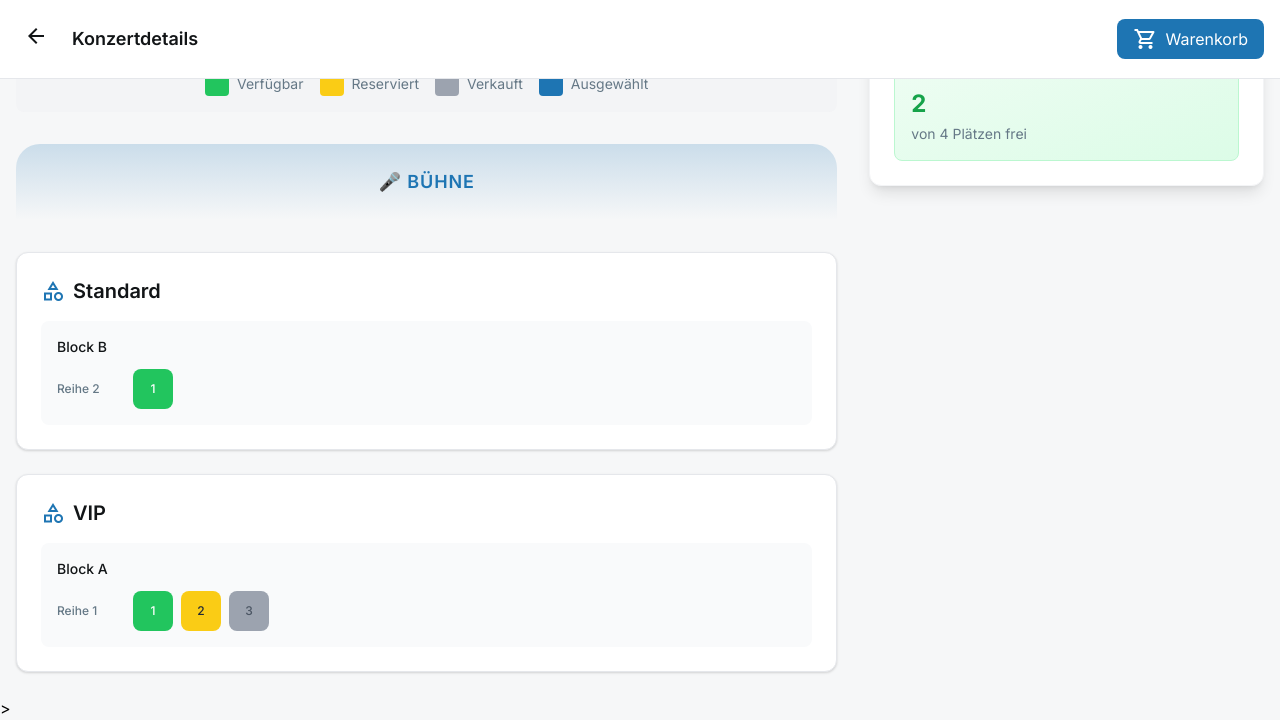
ConcertDetailPage Component › Seat Selection Dialog › shows success notification after successful reservation
(page scrolled)
Click the 2nd button titled "Reihe 1, Platz 1 - Verfügbar": [153, 611] box [133, 591, 173, 631]
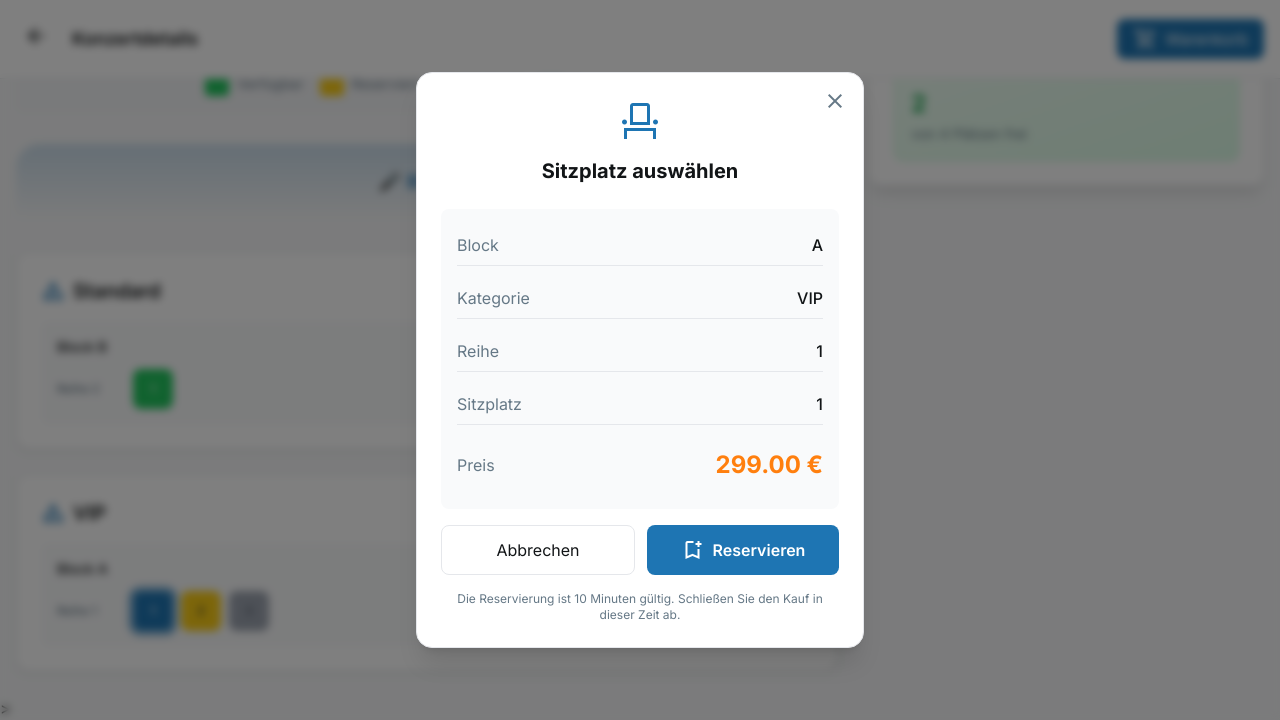
Expected: the button "Reservieren" is shown
Click the button "Reservieren": [743, 550] box [647, 525, 839, 575]
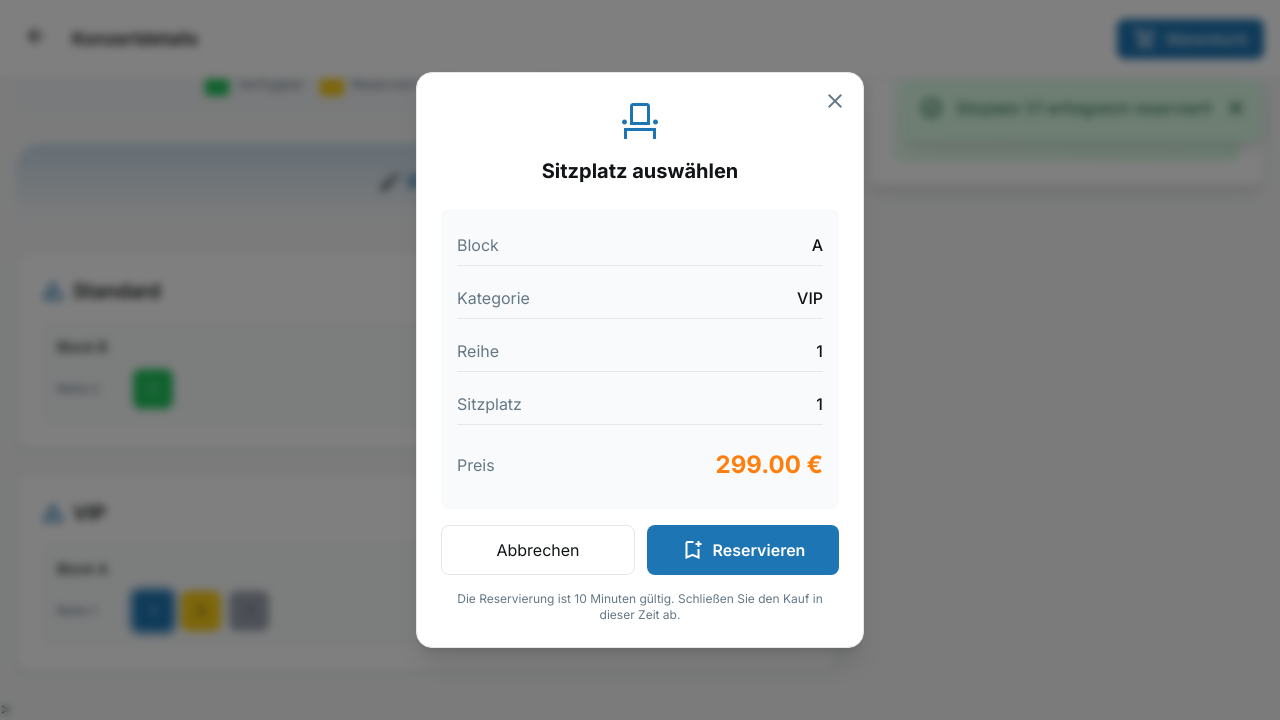
Expected: the text "Sitzplatz 1/1 erfolgreich reserviert!" is shown, [955, 96, 1212, 120]
